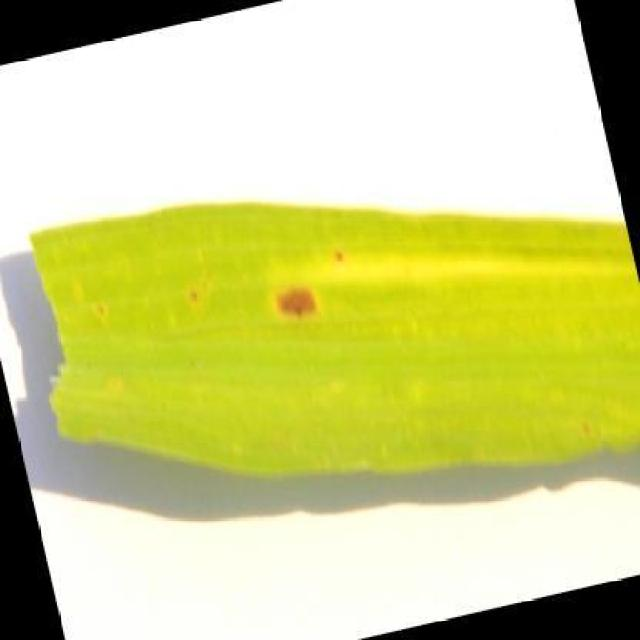Leaf_Blast: (255, 255, 342, 348), (568, 395, 604, 457), (177, 268, 212, 323)
